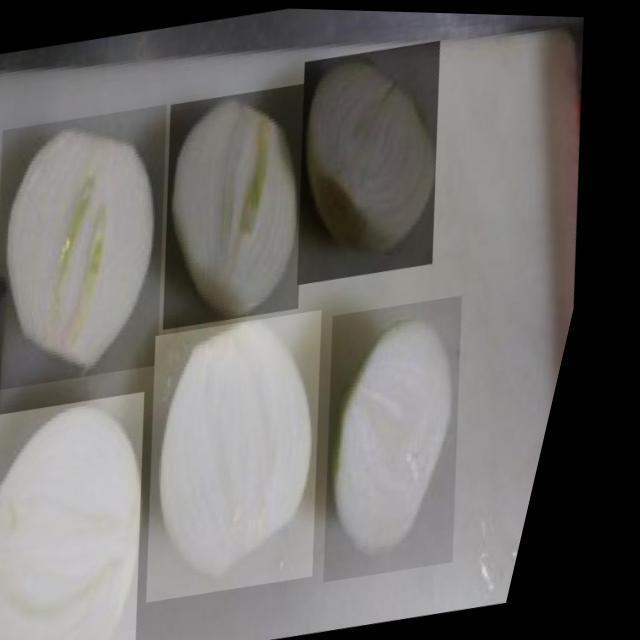Onion: (122, 304, 388, 604), (299, 290, 527, 583), (0, 100, 222, 394), (135, 79, 353, 332), (0, 386, 215, 640), (267, 36, 485, 286)
